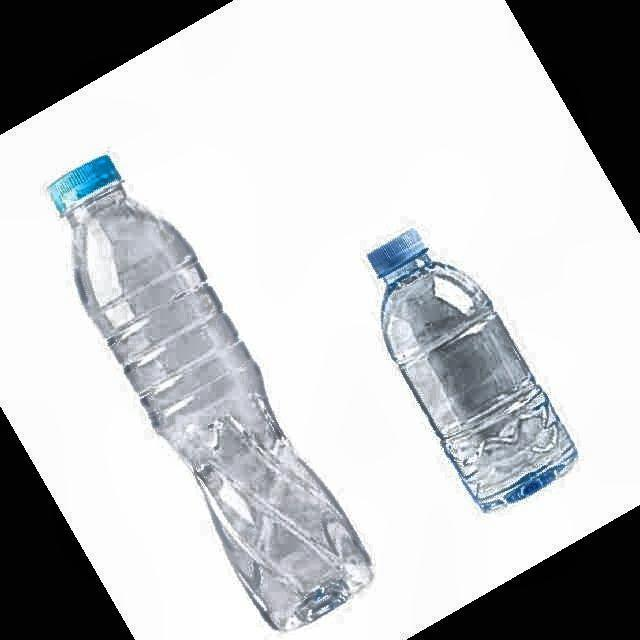plastic: (51, 158, 371, 628), (368, 229, 576, 510)
